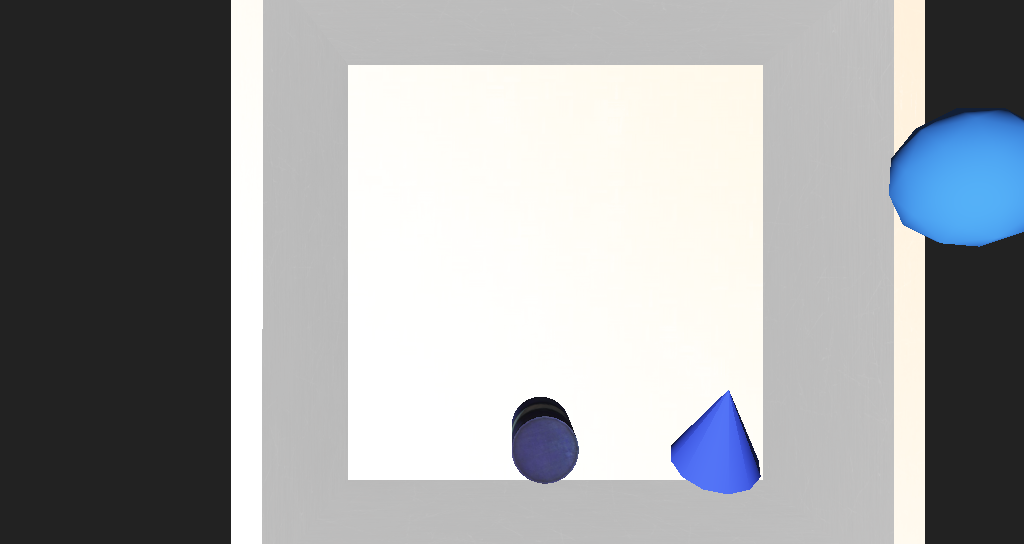cone: (475, 332, 522, 375)
cylinder: (589, 313, 664, 384)
sphere: (697, 198, 785, 260)
